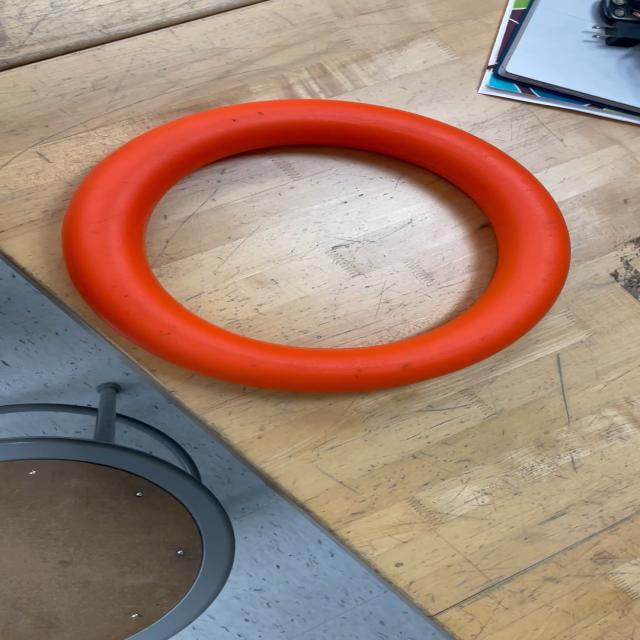note: (61, 97, 579, 397)
